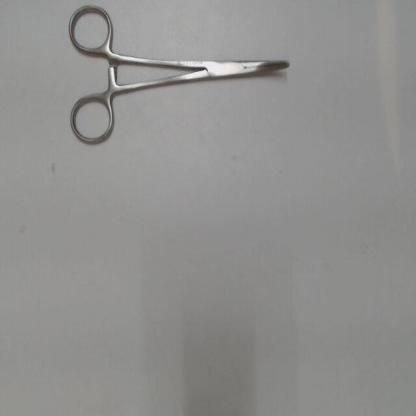Crile Artery Forceps: (67, 3, 296, 146)
